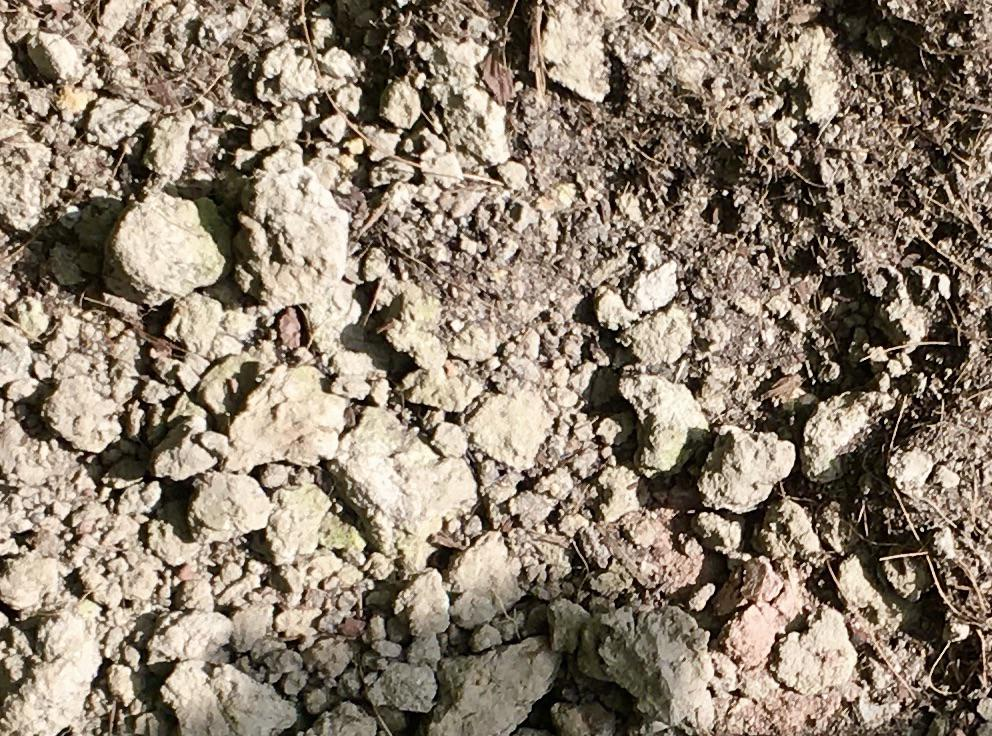block: (335, 402, 471, 562), (582, 598, 717, 724), (239, 159, 348, 310), (102, 188, 228, 302), (427, 636, 559, 736)
